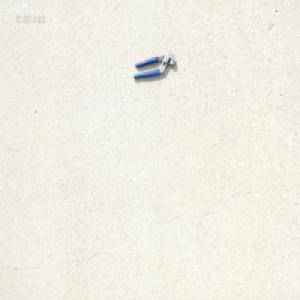Pliers: (132, 49, 176, 80)
